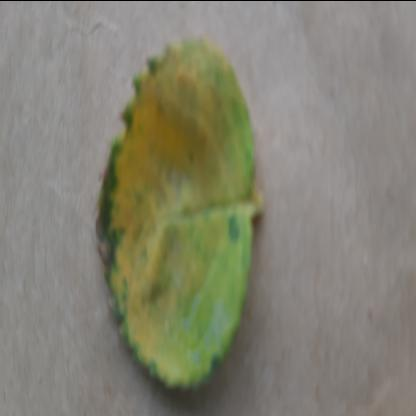black-spot: (96, 22, 258, 394)
